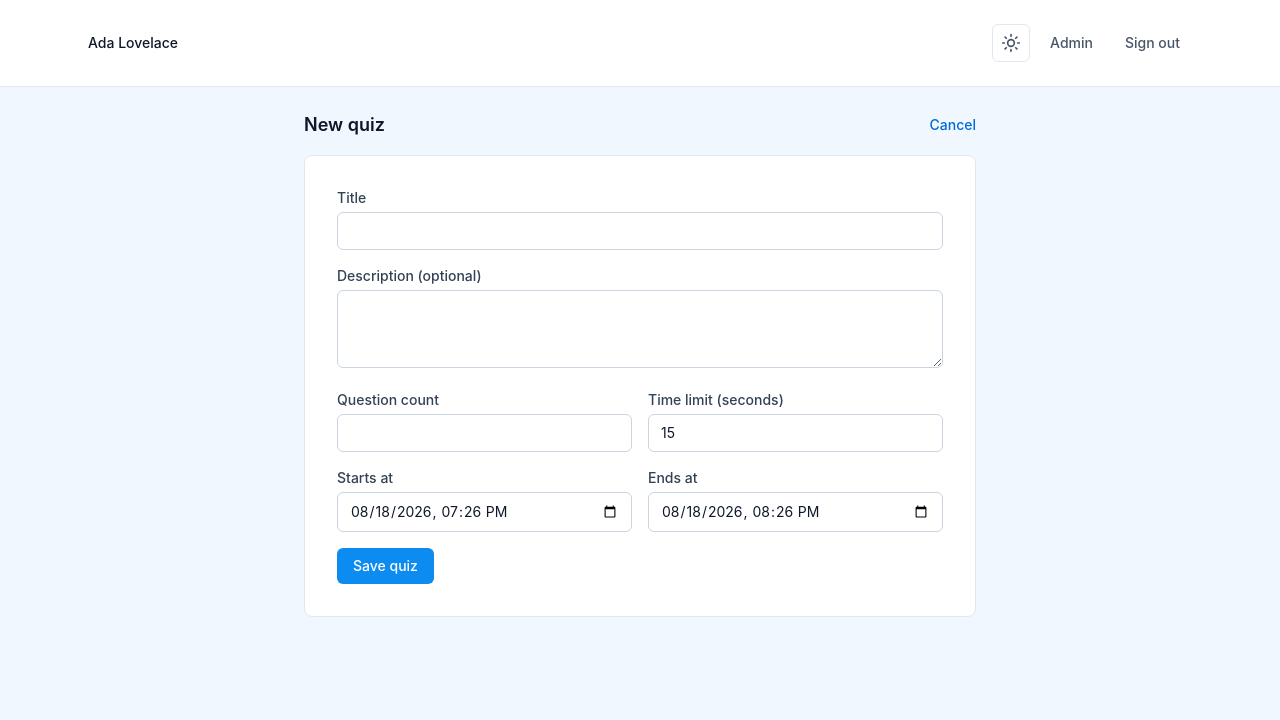
Test: AdminQuizForm › should_block_submit_when_title_is_empty
In the number field labelled "Question count": x=484, y=433 [337,414,632,452], type "3"
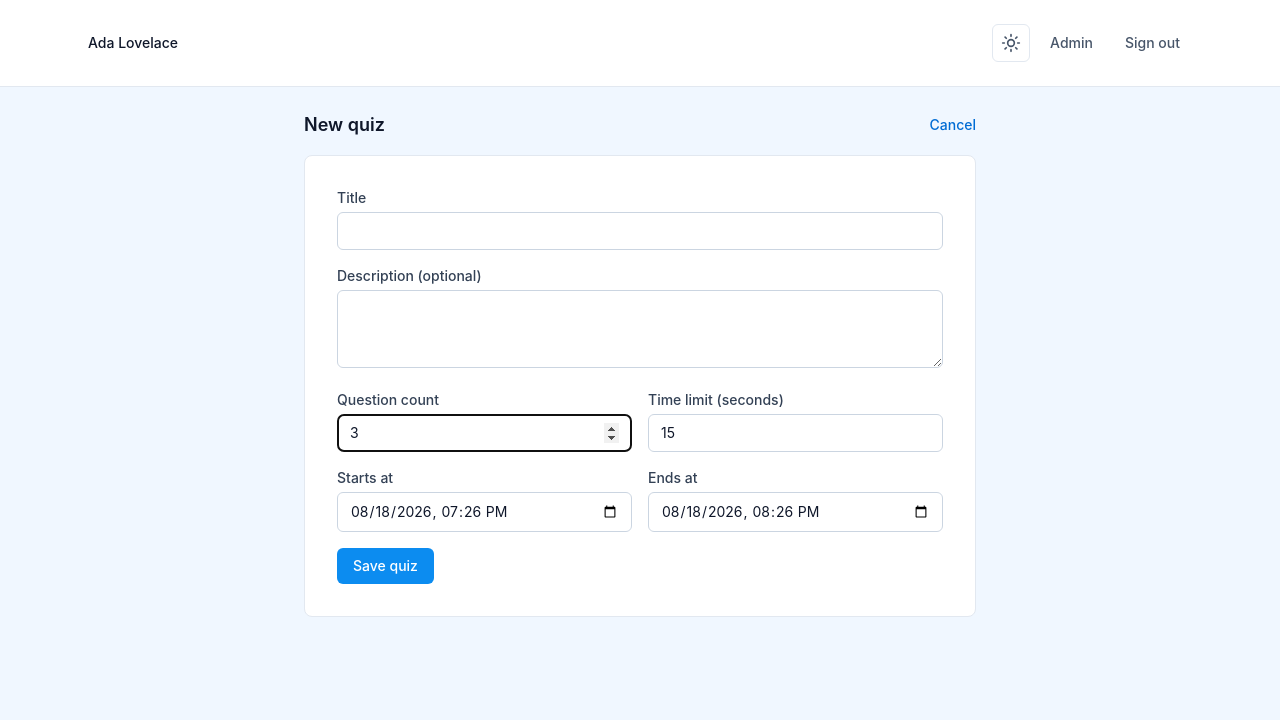
Click the button "Save quiz": x=386, y=566 [337,548,434,584]
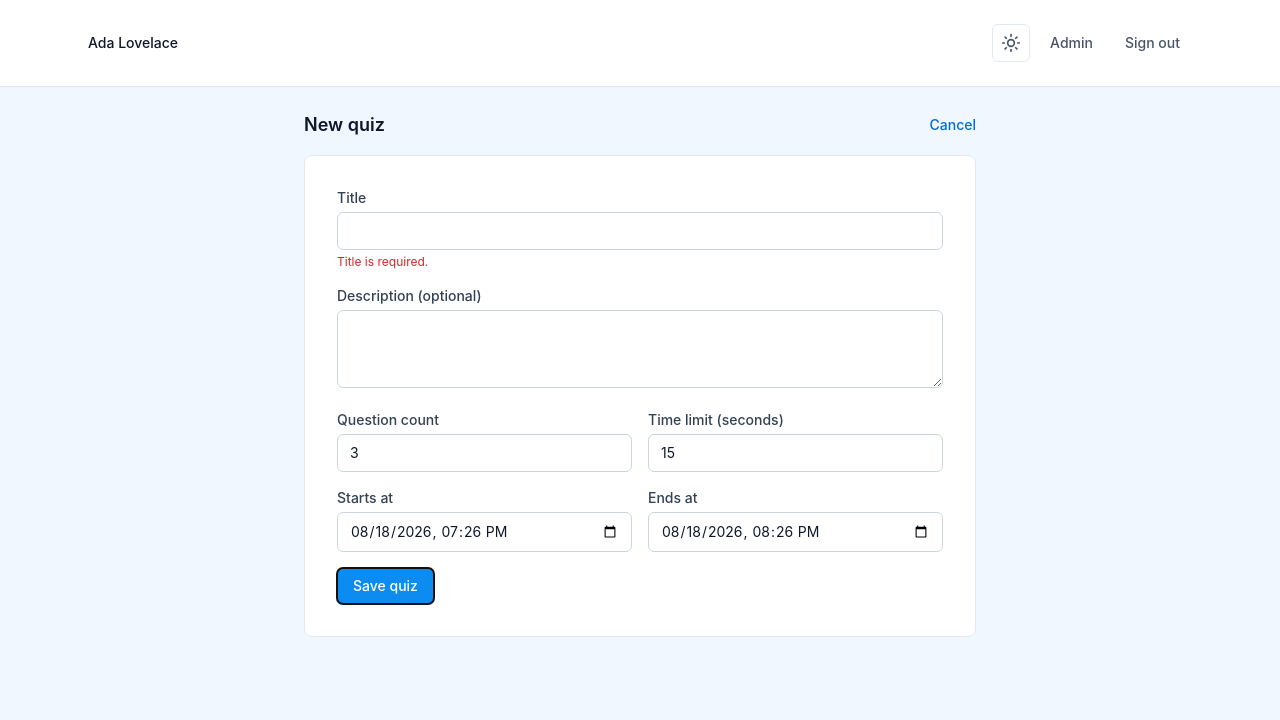
Now the text "Title is required." is shown, box [337,254,428,269]
